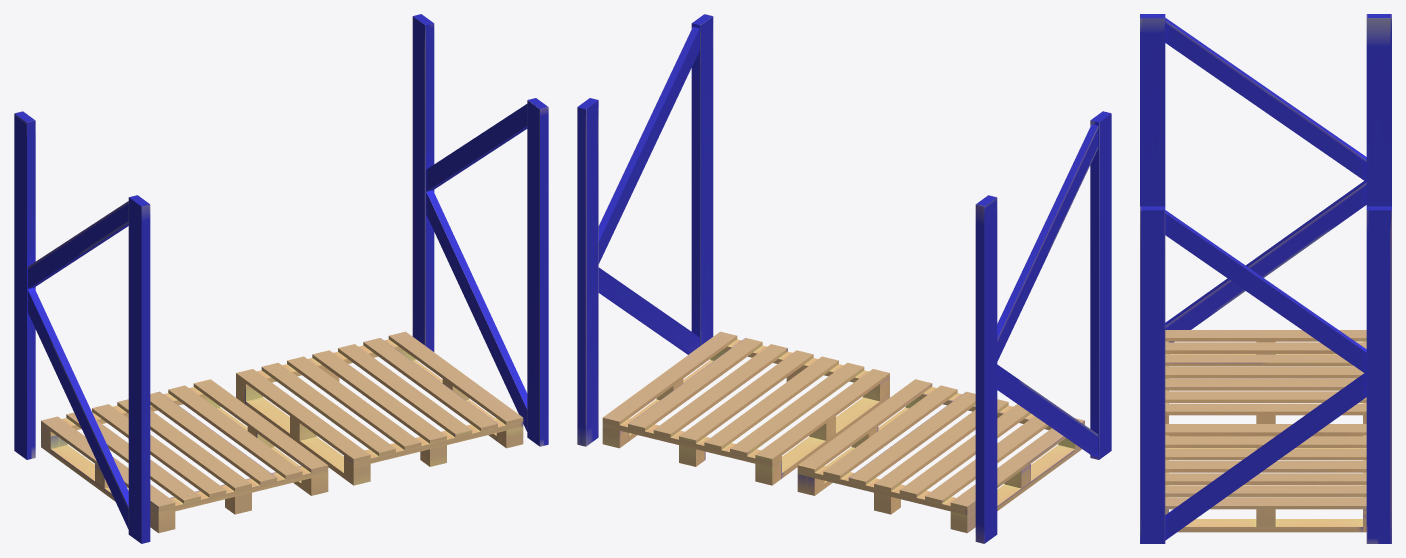
File: Longarina_Junto_2pallets_chão_256px.glb
3 renders of one model, left to right at view 1: azimuth 30°, elevation 25°; view 2: azimuth 150°, elevation 25°; view 3: azimuth 270°, elevation 25°, orthographic.
Parts seen in each view (by area): view 1: Barras_Laterais; view 2: Barras_Laterais; view 3: Barras_Laterais.
Boxes of the visible parts, x1,y1,x2,y2 form: Barras_Laterais: (14,14,548,543); Barras_Laterais: (577,14,1111,543); Barras_Laterais: (1140,14,1391,543).
Size of the model in its own units: 2.4 by 1.9 by 1.3.
Materials: 1 (1 with a texture image).
